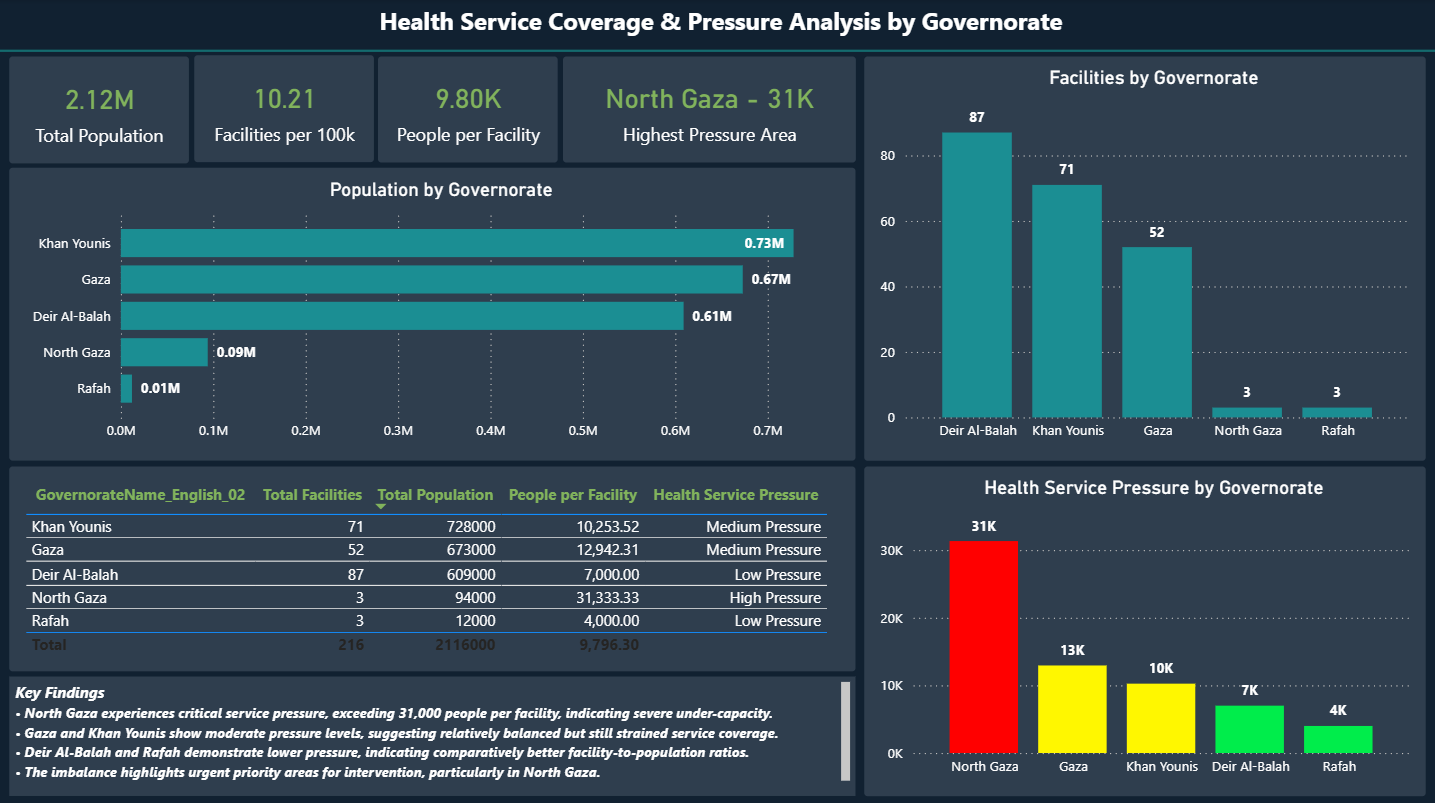

The page's visual inventory and layout, read from the dashboard file:
{"tool":"powerbi","page":{"name":"Health Service Coverage","canvas":[1280,720],"ordinal":2},"visuals":[{"type":"clusteredColumnChart","title":"Health Service Pressure by Governorate","fields":{"Category":["governorates.GovernorateName_English_02"],"Y":["governorates.Population per Facility"]},"box":[771.2,416.2,500,293.8],"z":0},{"type":"tableEx","title":"Facilities by Classification","fields":{"Values":["governorates.GovernorateName_English_02","health_facilities.Total Facilities","governorates.Total Population","governorates.Population per Facility","governorates.Health Pressure Index"]},"box":[10,416.2,753.8,182.5],"z":1000},{"type":"textbox","box":[326.2,0,635,40],"z":2000},{"type":"shape","box":[0,36.2,1280,18.8],"z":3000},{"type":"card","fields":{"Values":["governorates.Total Population"]},"box":[10,50.7,160,95],"z":4000},{"type":"card","fields":{"Values":["governorates.Facilities per 100k"]},"box":[174.4,50.4,160,95.5],"z":5000},{"type":"card","fields":{"Values":["governorates.People per Facility"]},"box":[338.9,51.1,160,94.2],"z":6000},{"type":"clusteredBarChart","title":"Population by Governorate","fields":{"Category":["governorates.GovernorateName_English_02"],"Y":["governorates.Total Population"]},"box":[10.3,150.2,753.8,260.7],"z":7000},{"type":"clusteredColumnChart","title":"Facilities by Governorate","fields":{"Category":["governorates.GovernorateName_English_02"],"Y":["health_facilities.Total Facilities"]},"box":[771.2,51.2,500,360],"z":8000},{"type":"textbox","box":[10,603.8,753.8,106.2],"z":9000},{"type":"card","fields":{"Values":["governorates.Highest Pressure Area"]},"box":[503.3,51.1,260.7,94.2],"z":9001}]}

Visuals, with their boxes in screenshot pixels (x1, y1, x2, y2), scaled from the page's 1280x720 canvas onto the 1435x803 screenshot:
"Health Service Pressure by Governorate" clusteredColumnChart: select_region(865, 464, 1425, 792)
"Facilities by Classification" tableEx: select_region(11, 464, 856, 668)
textbox: select_region(366, 0, 1078, 45)
shape: select_region(0, 40, 1434, 61)
card - governorates.Total Population: select_region(11, 57, 191, 162)
card - governorates.Facilities per 100k: select_region(196, 56, 375, 163)
card - governorates.People per Facility: select_region(380, 57, 559, 162)
"Population by Governorate" clusteredBarChart: select_region(12, 168, 857, 458)
"Facilities by Governorate" clusteredColumnChart: select_region(865, 57, 1425, 459)
textbox: select_region(11, 673, 856, 792)
card - governorates.Highest Pressure Area: select_region(564, 57, 857, 162)
